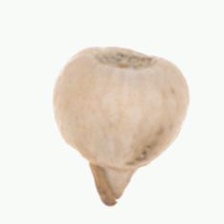L3: (86, 155, 135, 205)
L4: (52, 45, 189, 206)
